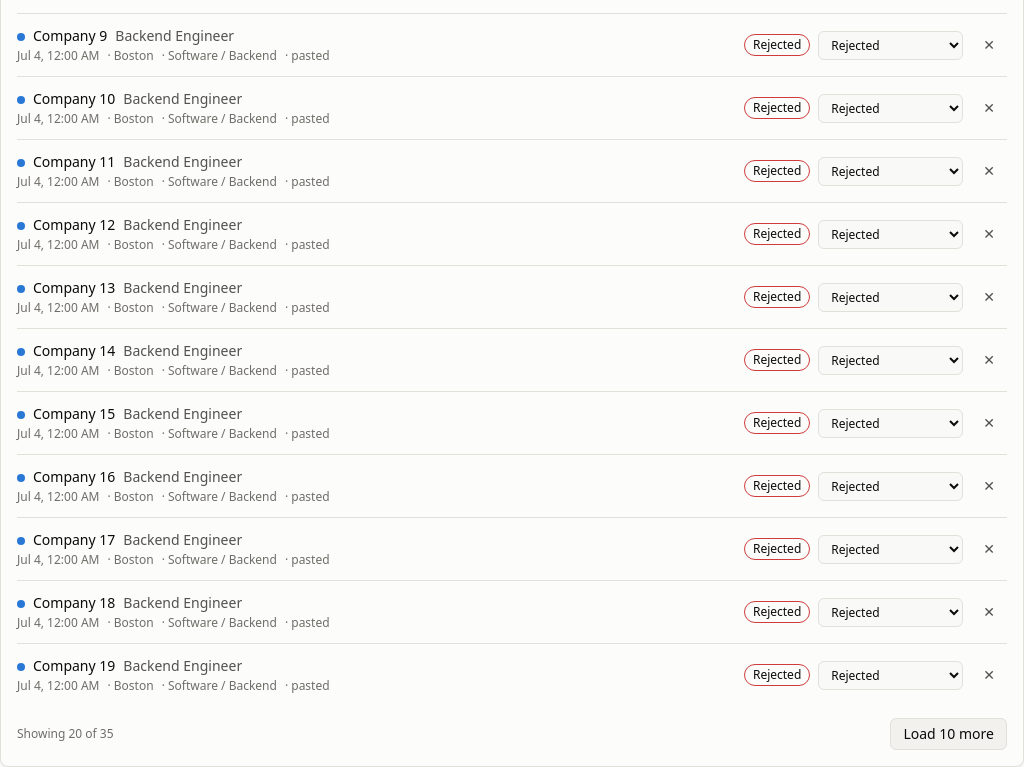
applications › shows twenty rows, then ten more per click
(page scrolled)
Expected: the text "Showing 20 of 35" is shown, [17,726,114,742]
Click the button "Load 10 more": (949, 734) [890,718,1007,750]
(page scrolled)
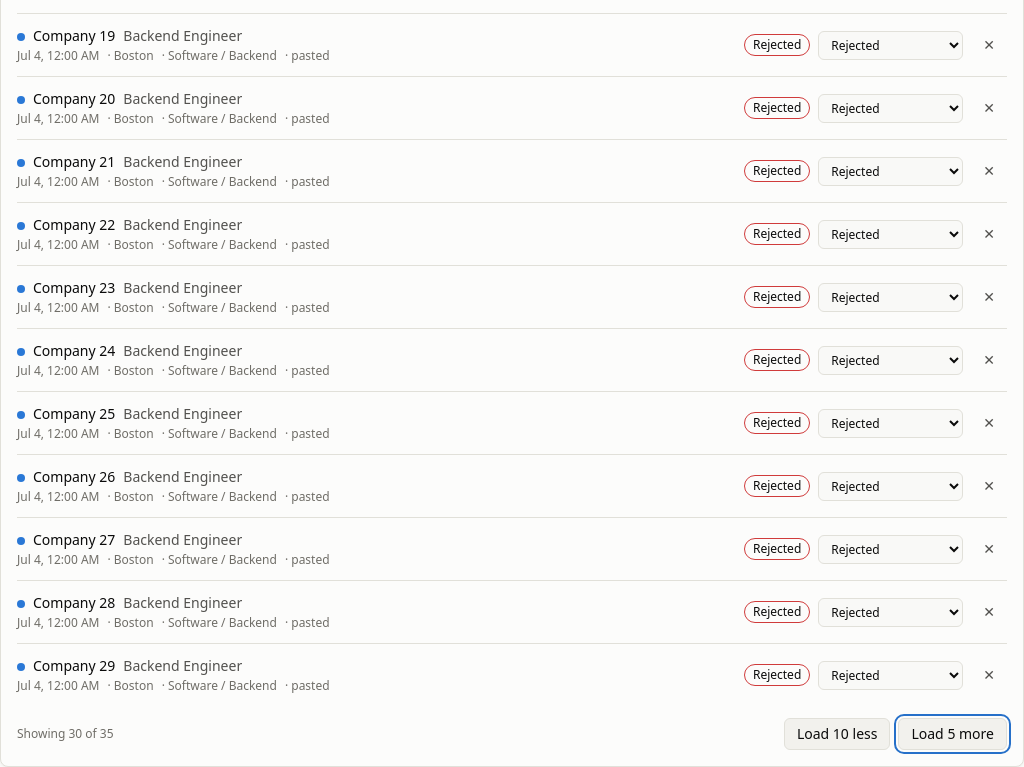
Note: The tail says how many are actually left, rather than promising ten it cannot give.
Click the button "Load 5 more": (953, 734) [898,718,1007,750]
(page scrolled)
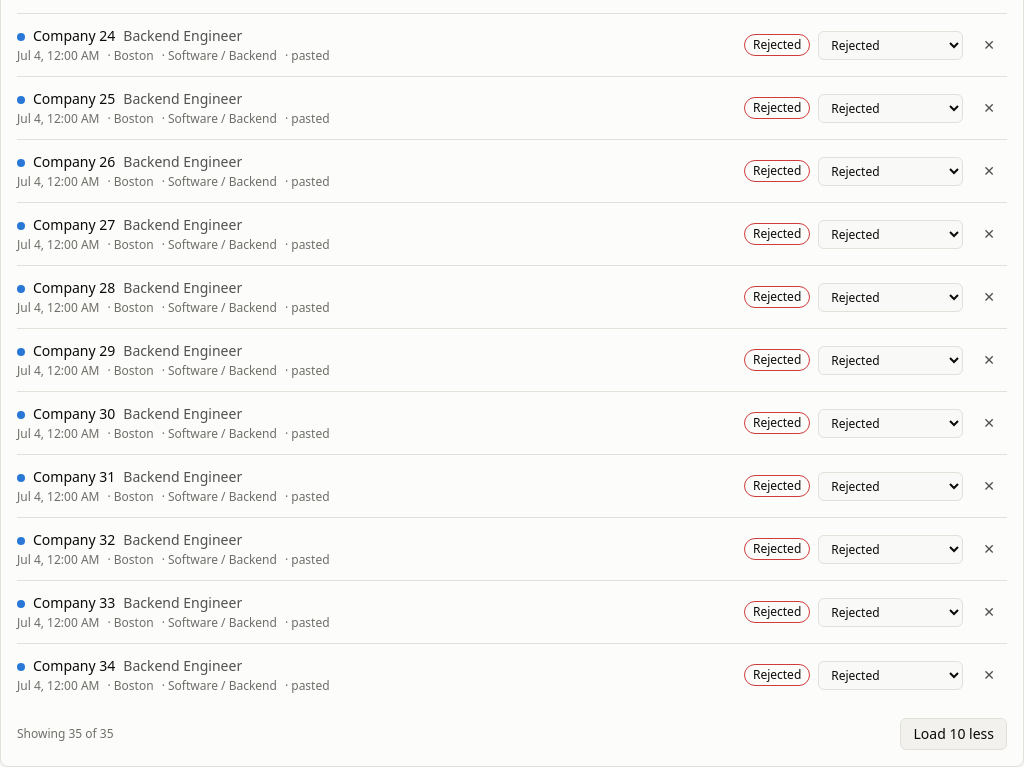
Expected: the button "Load 5 more" is gone
Expected: the text "Showing 35 of 35" is shown, [17,726,114,742]
